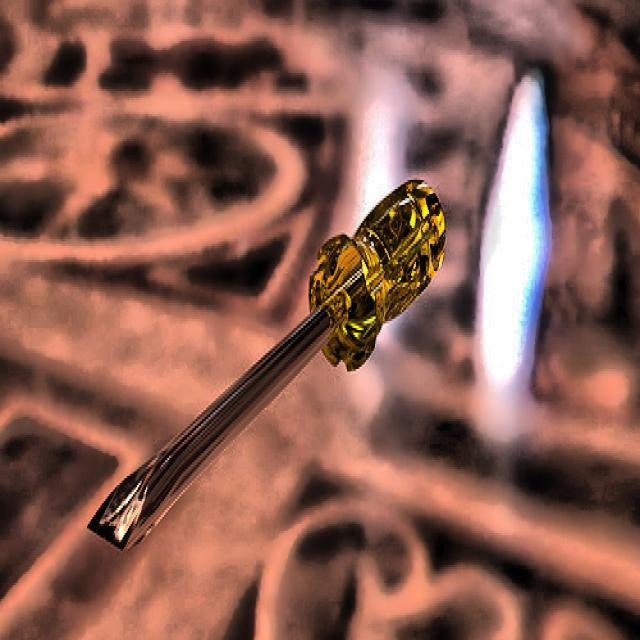screwdriver: (86, 176, 446, 556)
